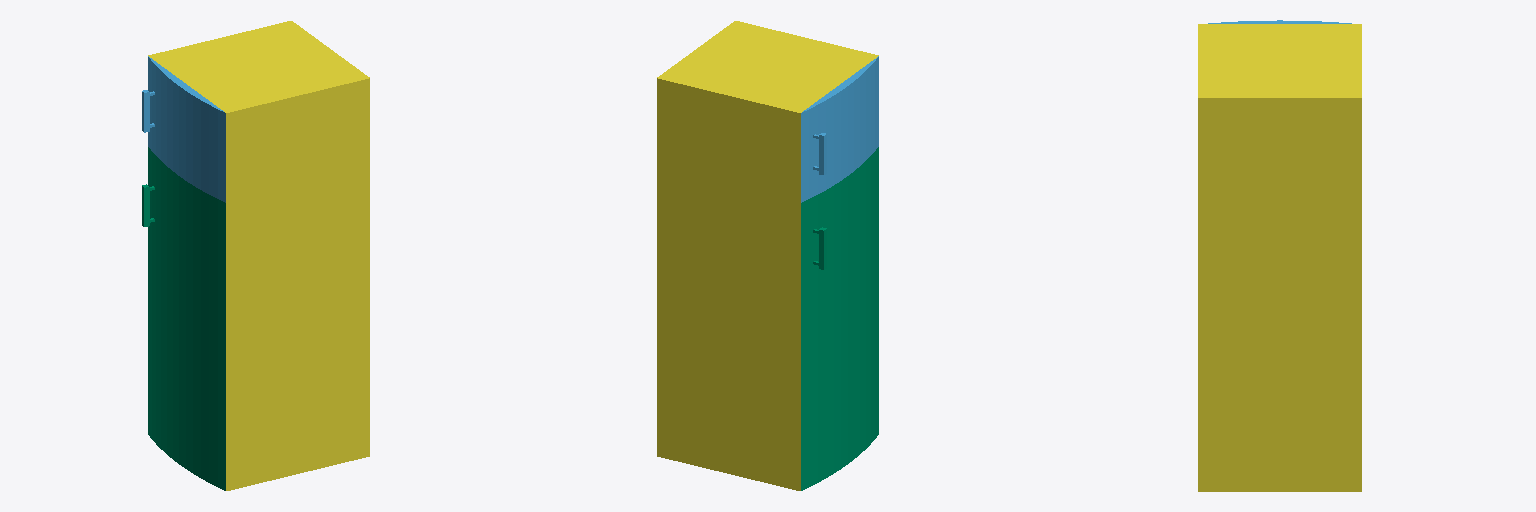
robot.urdf — partnet_f7e0a103c97469d5a168e247bb97e471:
<?xml version="1.0" ?>
<robot name="partnet_f7e0a103c97469d5a168e247bb97e471">
	<link name="base"/>
	<link name="link_0">
		<visual name="door_frame-21">
			<origin xyz="-0.3222042194546104 -0.8713290095329285 -0.3357881237454305"/>
			<geometry>
				<mesh filename="textured_objs/original-15.obj"/>
			</geometry>
		</visual>
		<visual name="handle-22">
			<origin xyz="-0.3222042194546104 -0.8713290095329285 -0.3357881237454305"/>
			<geometry>
				<mesh filename="textured_objs/original-12.obj"/>
			</geometry>
		</visual>
		<visual name="handle-22">
			<origin xyz="-0.3222042194546104 -0.8713290095329285 -0.3357881237454305"/>
			<geometry>
				<mesh filename="textured_objs/original-14.obj"/>
			</geometry>
		</visual>
		<visual name="handle-22">
			<origin xyz="-0.3222042194546104 -0.8713290095329285 -0.3357881237454305"/>
			<geometry>
				<mesh filename="textured_objs/original-13.obj"/>
			</geometry>
		</visual>
		<collision>
			<origin xyz="-0.3222042194546104 -0.8713290095329285 -0.3357881237454305"/>
			<geometry>
				<mesh filename="textured_objs/original-15.obj"/>
			</geometry>
		</collision>
		<collision>
			<origin xyz="-0.3222042194546104 -0.8713290095329285 -0.3357881237454305"/>
			<geometry>
				<mesh filename="textured_objs/original-12.obj"/>
			</geometry>
		</collision>
		<collision>
			<origin xyz="-0.3222042194546104 -0.8713290095329285 -0.3357881237454305"/>
			<geometry>
				<mesh filename="textured_objs/original-14.obj"/>
			</geometry>
		</collision>
		<collision>
			<origin xyz="-0.3222042194546104 -0.8713290095329285 -0.3357881237454305"/>
			<geometry>
				<mesh filename="textured_objs/original-13.obj"/>
			</geometry>
		</collision>
	</link>
	<joint name="joint_0" type="revolute">
		<origin xyz="0.3222042194546104 0.8713290095329285 0.3357881237454305"/>
		<axis xyz="0 1 0"/>
		<child link="link_0"/>
		<parent link="link_2"/>
		<limit lower="0.0" upper="1.5707963267948966"/>
	</joint>
	<link name="link_1">
		<visual name="door_frame-19">
			<origin xyz="-0.3222042194546104 -0.8713290095329285 -0.3357881237454305"/>
			<geometry>
				<mesh filename="textured_objs/original-3.obj"/>
			</geometry>
		</visual>
		<visual name="handle-20">
			<origin xyz="-0.3222042194546104 -0.8713290095329285 -0.3357881237454305"/>
			<geometry>
				<mesh filename="textured_objs/original-6.obj"/>
			</geometry>
		</visual>
		<visual name="handle-20">
			<origin xyz="-0.3222042194546104 -0.8713290095329285 -0.3357881237454305"/>
			<geometry>
				<mesh filename="textured_objs/original-8.obj"/>
			</geometry>
		</visual>
		<visual name="handle-20">
			<origin xyz="-0.3222042194546104 -0.8713290095329285 -0.3357881237454305"/>
			<geometry>
				<mesh filename="textured_objs/original-7.obj"/>
			</geometry>
		</visual>
		<collision>
			<origin xyz="-0.3222042194546104 -0.8713290095329285 -0.3357881237454305"/>
			<geometry>
				<mesh filename="textured_objs/original-3.obj"/>
			</geometry>
		</collision>
		<collision>
			<origin xyz="-0.3222042194546104 -0.8713290095329285 -0.3357881237454305"/>
			<geometry>
				<mesh filename="textured_objs/original-6.obj"/>
			</geometry>
		</collision>
		<collision>
			<origin xyz="-0.3222042194546104 -0.8713290095329285 -0.3357881237454305"/>
			<geometry>
				<mesh filename="textured_objs/original-8.obj"/>
			</geometry>
		</collision>
		<collision>
			<origin xyz="-0.3222042194546104 -0.8713290095329285 -0.3357881237454305"/>
			<geometry>
				<mesh filename="textured_objs/original-7.obj"/>
			</geometry>
		</collision>
	</link>
	<joint name="joint_1" type="revolute">
		<origin xyz="0.3222042194546104 0.8713290095329285 0.3357881237454305"/>
		<axis xyz="0 1 0"/>
		<child link="link_1"/>
		<parent link="link_2"/>
		<limit lower="0.0" upper="1.5707963267948966"/>
	</joint>
	<link name="link_2">
		<visual name="frame-15">
			<origin xyz="0 0 0"/>
			<geometry>
				<mesh filename="textured_objs/original-4.obj"/>
			</geometry>
		</visual>
		<visual name="frame-15">
			<origin xyz="0 0 0"/>
			<geometry>
				<mesh filename="textured_objs/original-2.obj"/>
			</geometry>
		</visual>
		<visual name="frame-15">
			<origin xyz="0 0 0"/>
			<geometry>
				<mesh filename="textured_objs/original-9.obj"/>
			</geometry>
		</visual>
		<visual name="frame-15">
			<origin xyz="0 0 0"/>
			<geometry>
				<mesh filename="textured_objs/original-1.obj"/>
			</geometry>
		</visual>
		<visual name="frame-15">
			<origin xyz="0 0 0"/>
			<geometry>
				<mesh filename="textured_objs/original-10.obj"/>
			</geometry>
		</visual>
		<visual name="shelf-23">
			<origin xyz="0 0 0"/>
			<geometry>
				<mesh filename="textured_objs/original-16.obj"/>
			</geometry>
		</visual>
		<collision>
			<origin xyz="0 0 0"/>
			<geometry>
				<mesh filename="textured_objs/original-4.obj"/>
			</geometry>
		</collision>
		<collision>
			<origin xyz="0 0 0"/>
			<geometry>
				<mesh filename="textured_objs/original-2.obj"/>
			</geometry>
		</collision>
		<collision>
			<origin xyz="0 0 0"/>
			<geometry>
				<mesh filename="textured_objs/original-9.obj"/>
			</geometry>
		</collision>
		<collision>
			<origin xyz="0 0 0"/>
			<geometry>
				<mesh filename="textured_objs/original-1.obj"/>
			</geometry>
		</collision>
		<collision>
			<origin xyz="0 0 0"/>
			<geometry>
				<mesh filename="textured_objs/original-10.obj"/>
			</geometry>
		</collision>
		<collision>
			<origin xyz="0 0 0"/>
			<geometry>
				<mesh filename="textured_objs/original-16.obj"/>
			</geometry>
		</collision>
	</link>
	<joint name="joint_2" type="fixed">
		<origin rpy="1.570796326794897 0 -1.570796326794897" xyz="0 0 0"/>
		<child link="link_2"/>
		<parent link="base"/>
	</joint>
</robot>

--- Facts derived from the render (not from the file) ---
The picture shows the robot from 3 angles, left to right: view 1: azimuth 30°, elevation 25°; view 2: azimuth 150°, elevation 25°; view 3: azimuth 270°, elevation 25°; orthographic projection.
Model partnet_f7e0a103c97469d5a168e247bb97e471 with 4 links and 3 joints (2 revolute, 1 fixed), rooted at base, posed all joints at 0.
Links seen in each view (by area): view 1: link_2, link_1, link_0; view 2: link_2, link_1, link_0; view 3: link_2.
Link boxes in pixels (x1,y1,x2,y2): link_2: (148, 21, 369, 490); link_1: (142, 147, 225, 490); link_0: (142, 56, 225, 202); link_2: (657, 21, 878, 490); link_1: (801, 147, 878, 490); link_0: (801, 56, 878, 202); link_2: (1198, 24, 1361, 491).
Size in the robot's own frame: 0.7736 by 0.665 by 1.76 metres.
14 mesh visuals loaded from 14 distinct referenced files (14 OBJ).
